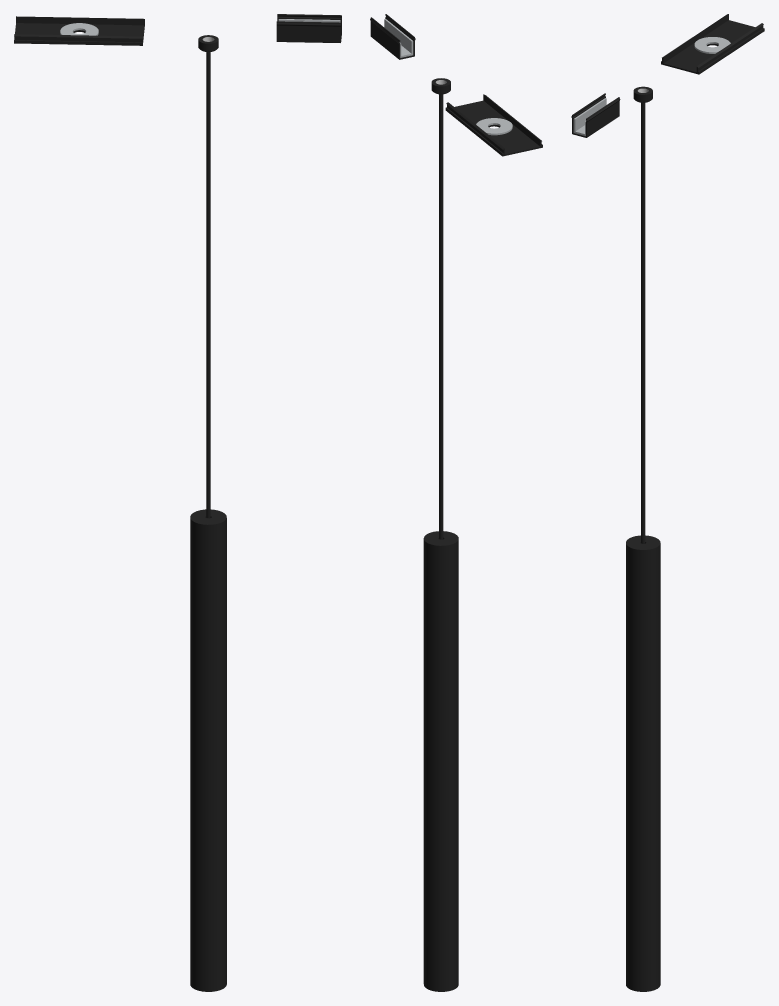
File: SnelloPendente.glb
3 views of the same model, side by side, from view 1: azimuth 30°, elevation 25°; view 2: azimuth 150°, elevation 25°; view 3: azimuth 270°, elevation 25° (orthographic). The views are drawn at different scales.
Visible parts, largest first — view 1: 3DGeom-3, 3DGeom-11, 3DGeom-5, 3DGeom-10; view 2: 3DGeom-3, 3DGeom-11, 3DGeom-5, 3DGeom-10, 3DGeom-6, 3DGeom-7; view 3: 3DGeom-3, 3DGeom-11, 3DGeom-5, 3DGeom-10, 3DGeom-6.
Part boxes in pixels (bbox=[...]): 3DGeom-3: bbox=[190, 509, 226, 991]; 3DGeom-11: bbox=[14, 16, 144, 45]; 3DGeom-5: bbox=[206, 52, 210, 517]; 3DGeom-10: bbox=[276, 14, 341, 42]; 3DGeom-3: bbox=[423, 531, 458, 991]; 3DGeom-11: bbox=[445, 94, 542, 156]; 3DGeom-5: bbox=[439, 94, 443, 539]; 3DGeom-10: bbox=[370, 14, 415, 59]; 3DGeom-6: bbox=[476, 118, 512, 135]; 3DGeom-7: bbox=[384, 19, 413, 57]; 3DGeom-3: bbox=[626, 535, 660, 991]; 3DGeom-11: bbox=[661, 14, 764, 74]; 3DGeom-5: bbox=[641, 102, 645, 543]; 3DGeom-10: bbox=[571, 93, 620, 137]; 3DGeom-6: bbox=[694, 37, 730, 53].
Size of the model in its own units: 0.228 by 0.8269 by 0.1585.
2 materials, 1 textured.
